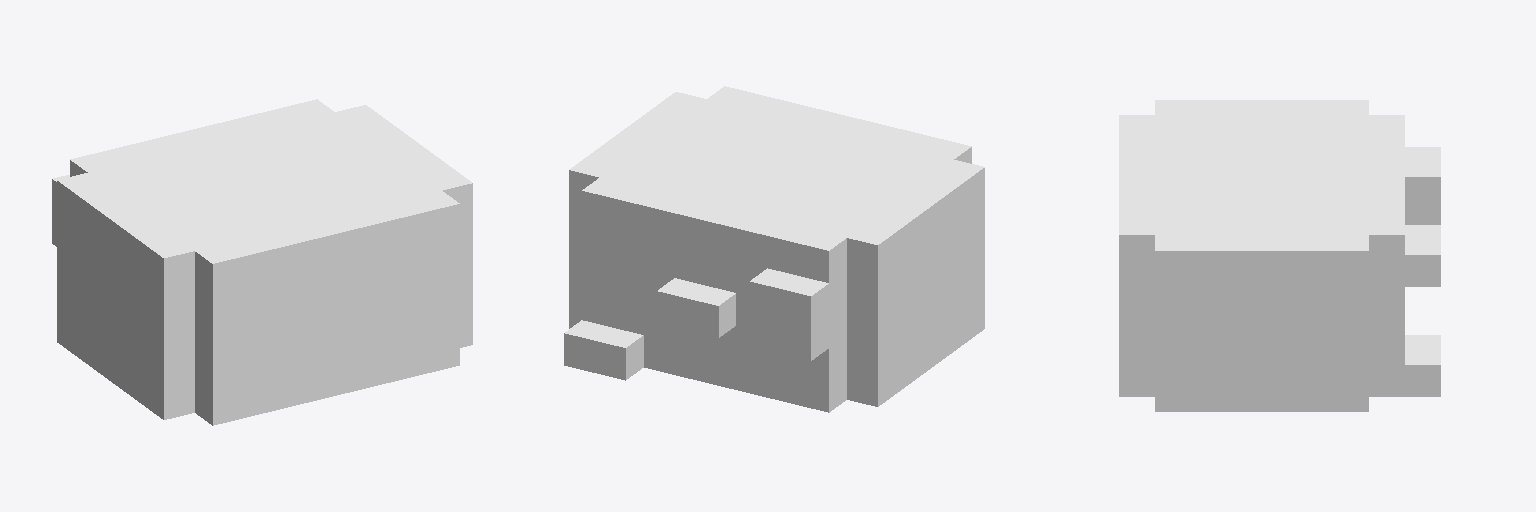
Rendered from BigHouse-1.obj.
3 views of the same model, side by side, from view 1: azimuth 30°, elevation 25°; view 2: azimuth 150°, elevation 25°; view 3: azimuth 270°, elevation 25° (orthographic).
Visible parts, largest first — view 1: object 1; view 2: object 1; view 3: object 1.
Part boxes in pixels (bbox=[...]): object 1: bbox=[52, 99, 472, 425]; object 1: bbox=[564, 86, 984, 412]; object 1: bbox=[1119, 100, 1440, 411].
Size of the model in its own units: 2 by 1 by 1.8.